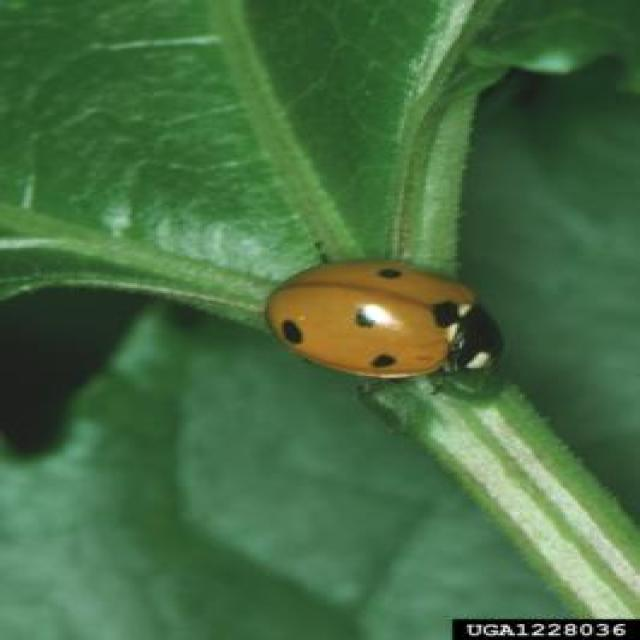body: (268, 259, 501, 378)
insect: (264, 258, 501, 399)
legs: (425, 362, 459, 394)
wings: (270, 260, 473, 379)
